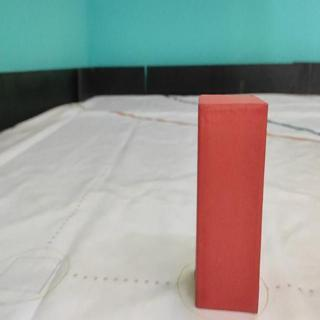redbox: (195, 97, 262, 312)
